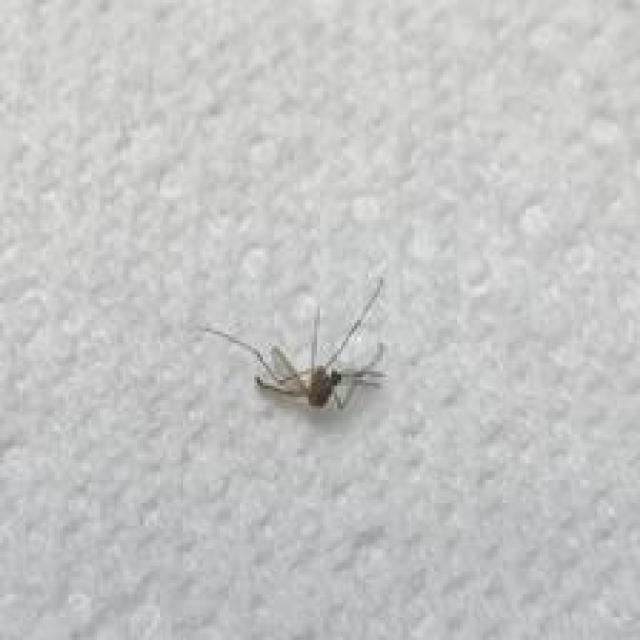Culex: (200, 274, 389, 414)
